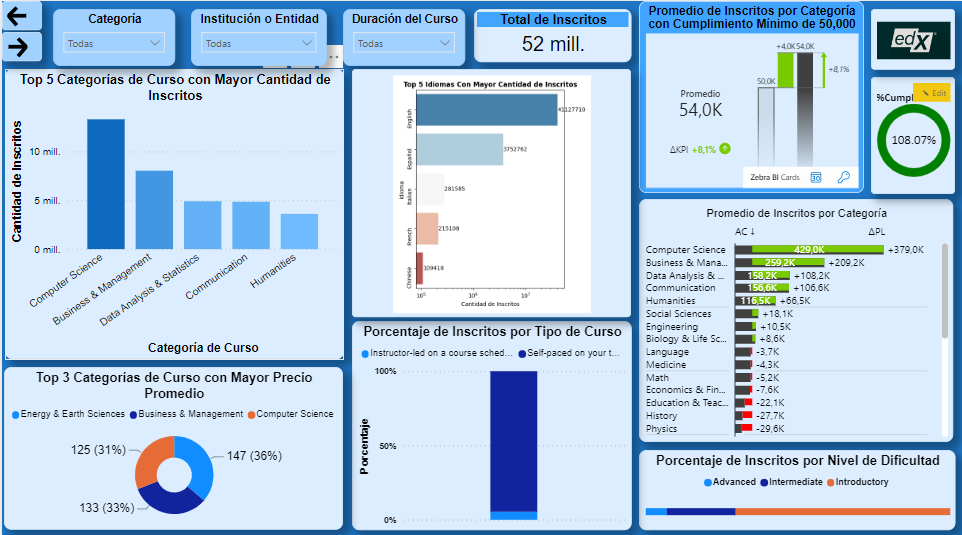

Layout of this report page (visuals, bound fields, positions):
{"tool":"powerbi","page":{"name":"KPI3","canvas":[1280,720],"ordinal":2},"visuals":[{"type":"card","title":"Total de Inscritos","fields":{"Values":["edx_transformation.TotalInscritos"]},"box":[629.3,10.1,210.2,70.6],"z":0},{"type":"clusteredColumnChart","title":"Top 5 Categorías de Curso con Mayor Cantidad de Inscritos","fields":{"Category":["edx_transformation.subject"],"Y":["edx_transformation.TotalInscritos"]},"box":[4.3,90.7,452.2,387.4],"z":1000},{"type":"variance8E4BB1B41A8942A7B897C7014A6E1F56","fields":{"Values":["edx_transformation.TasaCategoriaPromedio"],"Plan":["edx_transformation.KPI3"],"Category":["edx_transformation.subject"]},"box":[849.6,263.5,419,324],"z":2000},{"type":"hundredPercentStackedBarChart","title":"Porcentaje de Inscritos por Nivel de Dificultad","fields":{"Y":["edx_transformation.TotalInscritos"],"Series":["edx_transformation.Level"]},"box":[849.6,599,421.9,106.6],"z":3000},{"type":"hundredPercentStackedColumnChart","title":"Porcentaje de Inscritos por Tipo de Curso","fields":{"Y":["edx_transformation.TotalInscritos"],"Series":["edx_transformation.course_type"]},"box":[466.6,426.2,373,279.4],"z":4000},{"type":"donutChart","title":"Top 3 Categorías de Curso con Mayor Precio Promedio","fields":{"Y":["Avg(edx_transformation.price)"],"Category":["edx_transformation.subject"]},"box":[2.9,488.2,452.2,217.4],"z":5000},{"type":"slicer","title":"Categoría","fields":{"Values":["edx_transformation.subject"]},"box":[67.7,10.1,162.7,76.3],"z":6000},{"type":"slicer","title":"Institución o Entidad","fields":{"Values":["edx_transformation.institution"]},"box":[252,10.1,181.4,76.3],"z":7000},{"type":"slicer","title":"Duración del Curso","fields":{"Values":["edx_transformation.course_length"]},"box":[455,10.1,162.7,76.3],"z":8000},{"type":"zebraBiCards2C860CFAA9944091B75F0DBD117F20FA","title":"Promedio de Inscritos por Categoría con Cumplimiento Mínimo de 50,000","fields":{"Plan":["edx_transformation.KPI3"],"Values":["edx_transformation.GeneralTasaCategoriaPromedio"]},"box":[849.6,0,299.5,256.3],"z":9000},{"type":"pureVizInfographicC9801BF222134D2D83FA9C41861F3482","fields":{"dataset":["edx_transformation.%Cumplimiento3","edx_transformation.Color3"]},"box":[1159.2,100.8,112.3,155.5],"z":10000},{"type":"actionButton","box":[0,0,53.3,38.9],"z":11000},{"type":"actionButton","box":[0,41.8,53.3,38.9],"z":12000},{"type":"image","box":[1159.2,10.1,112.3,80.6],"z":13000},{"type":"pythonVisual","fields":{"Values":["edx_transformation.n_enrolled","edx_transformation.language"]},"box":[466.6,91.2,372.4,331],"z":14000}]}

Visuals, with their boxes in screenshot pixels (x1, y1, x2, y2), scaled from the page's 1280x720 canvas onto the 962x535 screenshot:
"Total de Inscritos" card: [x1=473, y1=8, x2=631, y2=60]
"Top 5 Categorías de Curso con Mayor Cantidad de Inscritos" clusteredColumnChart: [x1=3, y1=67, x2=343, y2=355]
variance8E4BB1B41A8942A7B897C7014A6E1F56 - edx_transformation.TasaCategoriaPromedio x edx_transformation.KPI3: [x1=639, y1=196, x2=953, y2=437]
"Porcentaje de Inscritos por Nivel de Dificultad" hundredPercentStackedBarChart: [x1=639, y1=445, x2=956, y2=524]
"Porcentaje de Inscritos por Tipo de Curso" hundredPercentStackedColumnChart: [x1=351, y1=317, x2=631, y2=524]
"Top 3 Categorías de Curso con Mayor Precio Promedio" donutChart: [x1=2, y1=363, x2=342, y2=524]
"Categoría" slicer: [x1=51, y1=8, x2=173, y2=64]
"Institución o Entidad" slicer: [x1=189, y1=8, x2=326, y2=64]
"Duración del Curso" slicer: [x1=342, y1=8, x2=464, y2=64]
"Promedio de Inscritos por Categoría con Cumplimiento Mínimo de 50,000" zebraBiCards2C860CFAA9944091B75F0DBD117F20FA: [x1=639, y1=0, x2=864, y2=190]
pureVizInfographicC9801BF222134D2D83FA9C41861F3482 - edx_transformation.%Cumplimiento3 x edx_transformation.Color3: [x1=871, y1=75, x2=956, y2=190]
actionButton: [x1=0, y1=0, x2=40, y2=29]
actionButton: [x1=0, y1=31, x2=40, y2=60]
image: [x1=871, y1=8, x2=956, y2=67]
pythonVisual - edx_transformation.n_enrolled x edx_transformation.language: [x1=351, y1=68, x2=631, y2=314]
